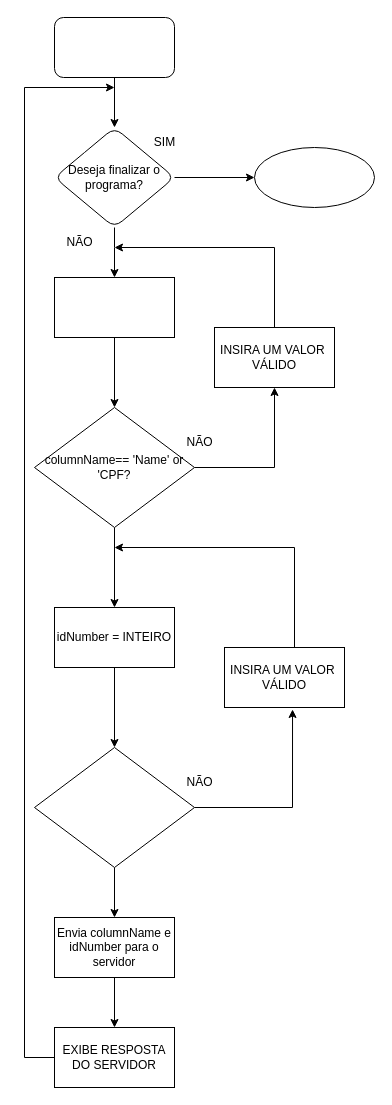
This 392x1105 diagram has some shape labels left out. Each missing label, with the box of its shape:
CLIENTE: (54, 16, 174, 78)
columnName = 'Name'/'CPF': (54, 276, 174, 338)
FINALIZA PROGRAMA: (254, 146, 374, 208)
idNumber == int?: (34, 746, 194, 868)
